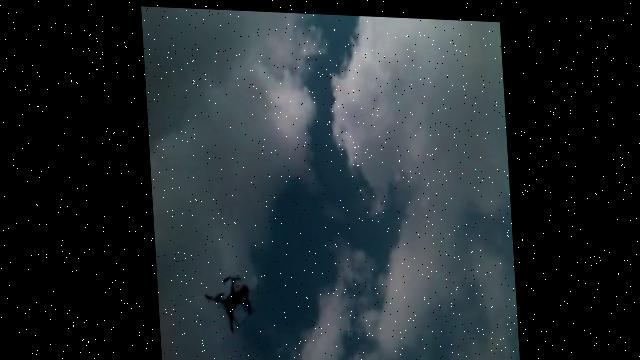drone: (195, 270, 252, 333)
